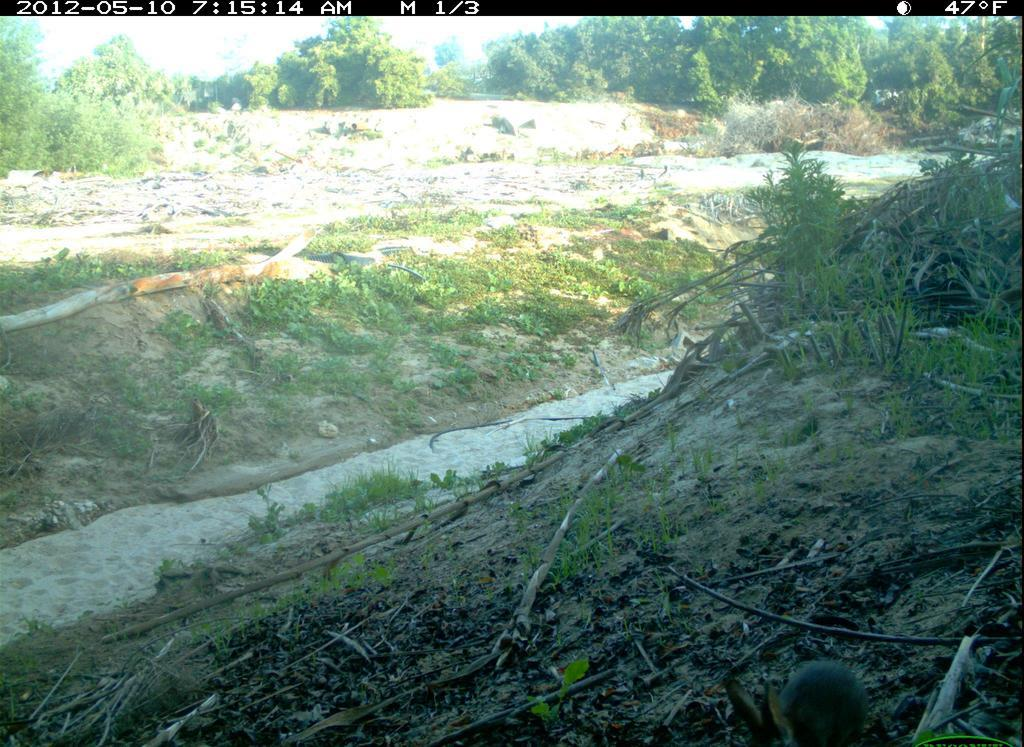rabbit: (700, 639, 892, 747)
